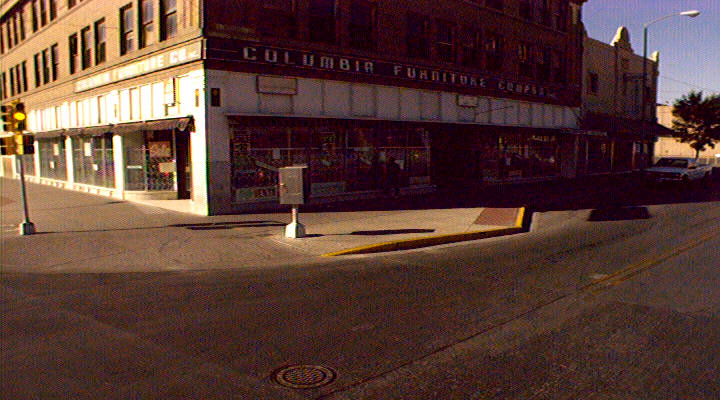Ramp: (1, 229, 334, 278)
